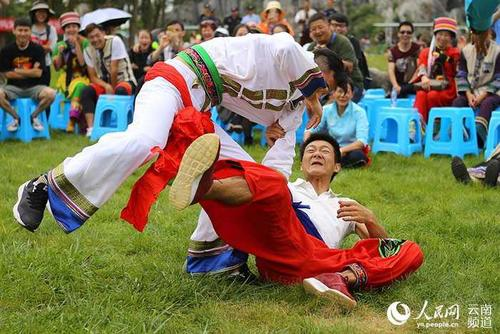10+: (1, 1, 500, 313)
down: (167, 130, 427, 312)
